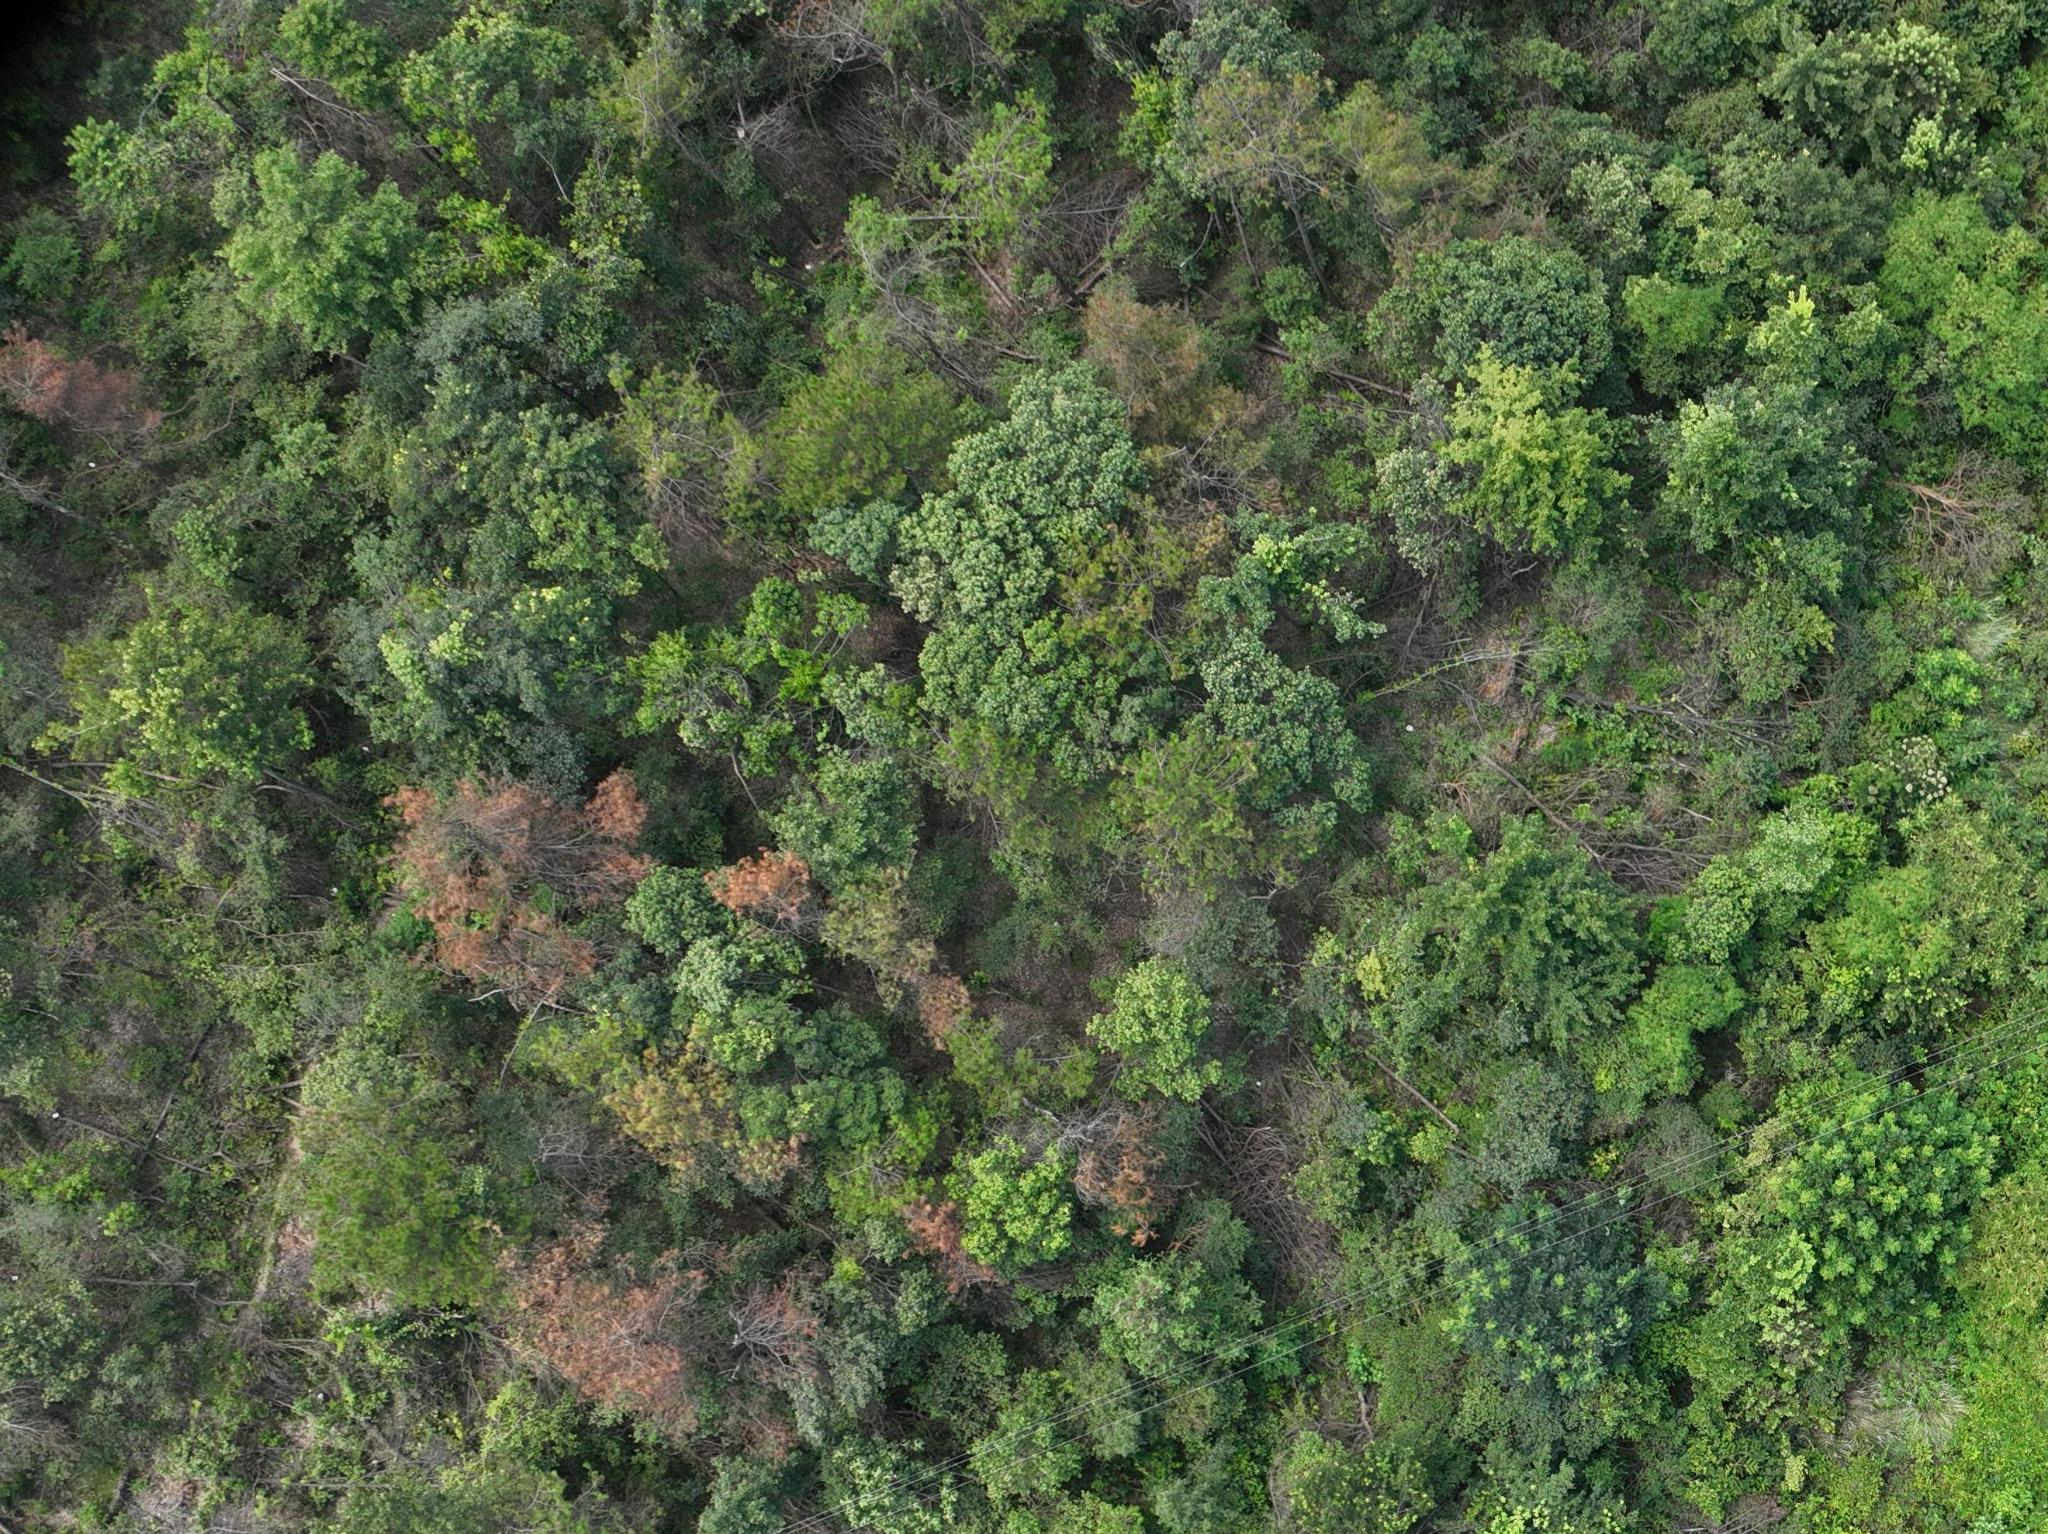heavy: (471, 1217, 810, 1471), (380, 764, 653, 999), (1033, 1089, 1167, 1255), (11, 337, 163, 450), (694, 841, 819, 943), (894, 1197, 993, 1294)
light: (1202, 61, 1423, 221), (617, 1031, 788, 1196)
